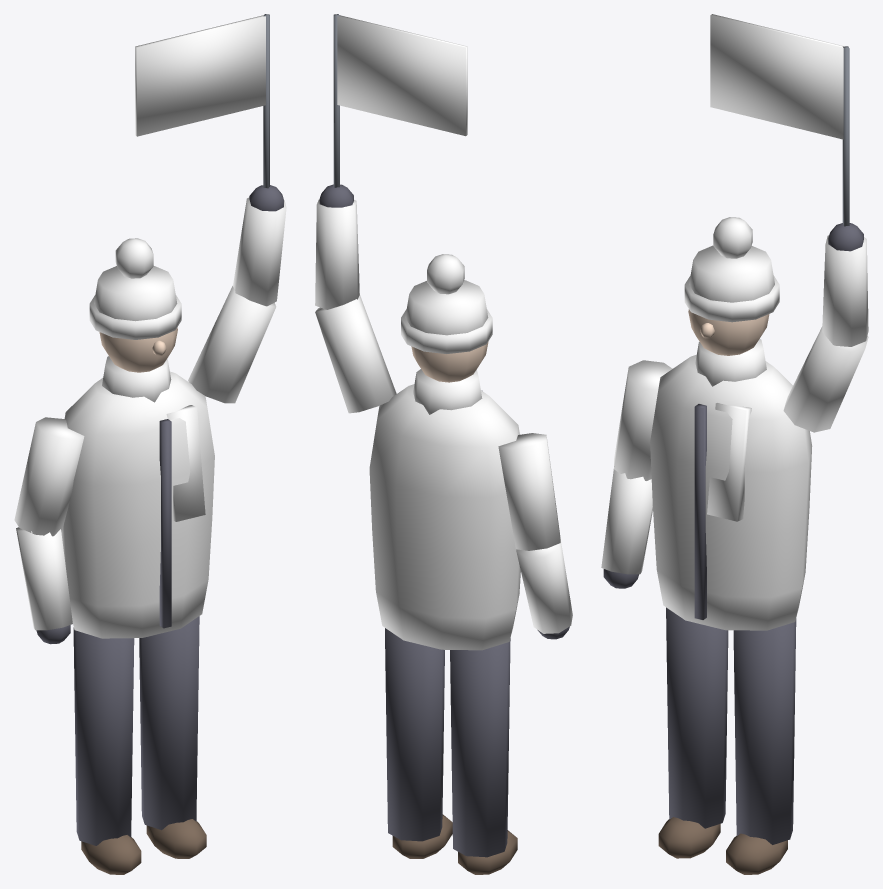
The model's file is spectator_flag.glb.
3 renders of one model, left to right at view 1: azimuth 30°, elevation 25°; view 2: azimuth 150°, elevation 25°; view 3: azimuth 330°, elevation 25°, orthographic. The views are drawn at different scales.
Visible parts, largest first — view 1: spectator_flag; view 2: spectator_flag; view 3: spectator_flag.
Part boxes in pixels (x1,y1,x2,y2): spectator_flag: (14, 14, 286, 874); spectator_flag: (315, 14, 572, 874); spectator_flag: (601, 14, 868, 874).
Size of the model in its own units: 0.7779 by 2.4 by 0.3194.
